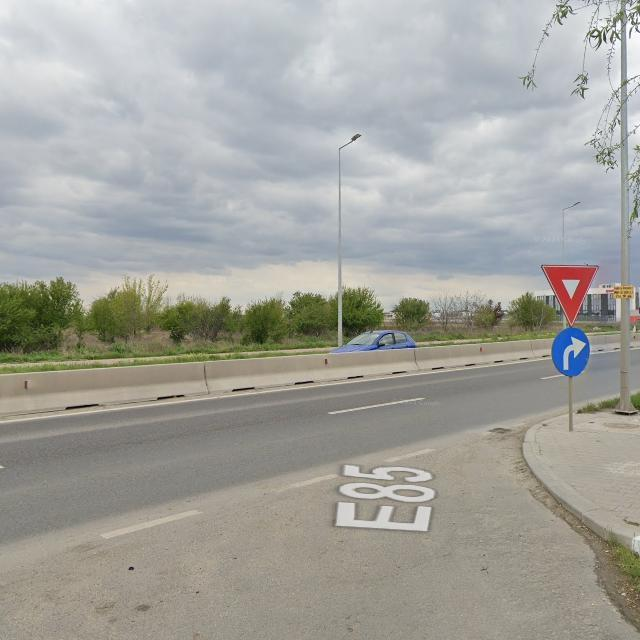prio_give_way: (541, 263, 601, 327)
